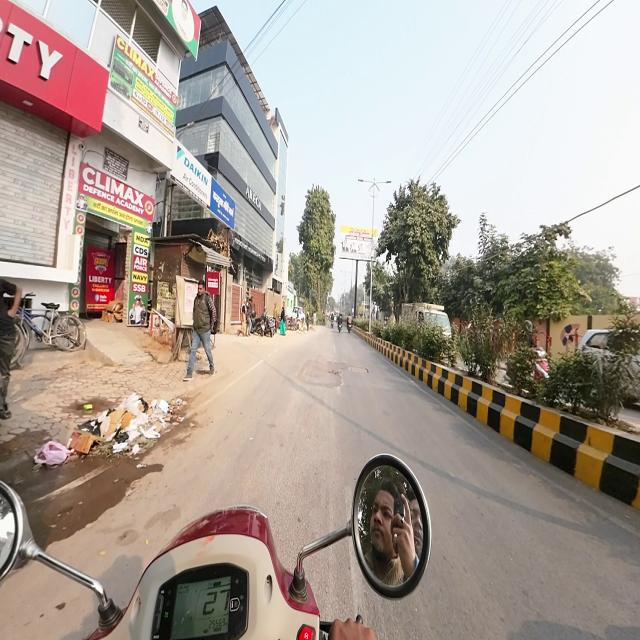Garbage: (110, 394, 167, 441), (70, 409, 113, 457), (31, 435, 69, 469)
